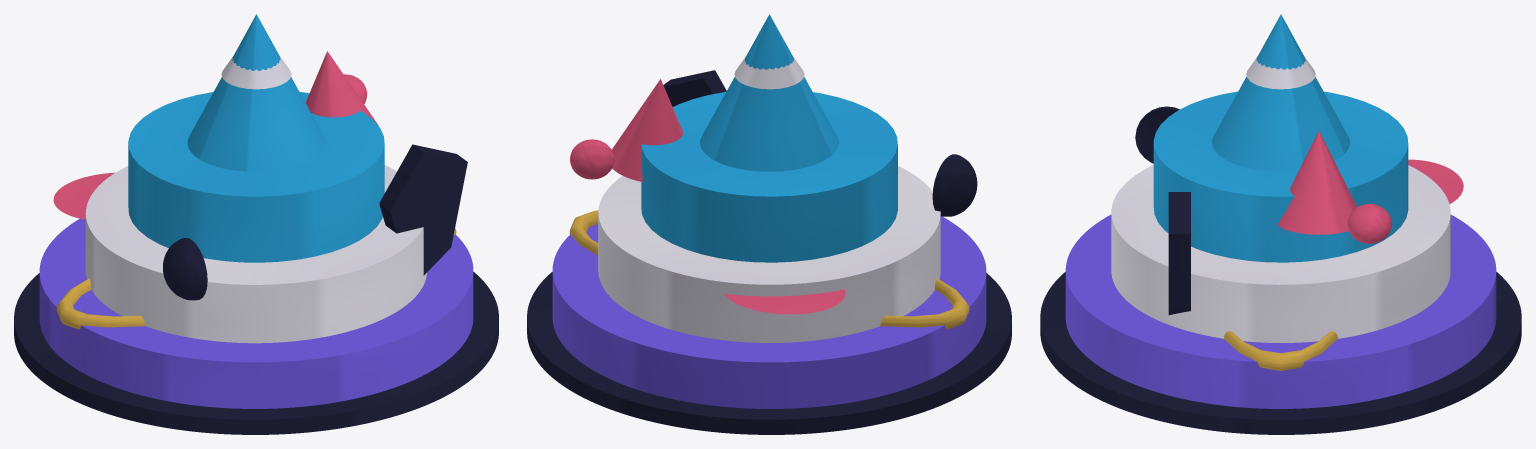
Rendered from 0812_中国建筑图鉴_冠云峰.glb.
3 renders of one model, left to right at view 1: azimuth 30°, elevation 25°; view 2: azimuth 150°, elevation 25°; view 3: azimuth 270°, elevation 25°, orthographic.
Parts seen in each view (by area): view 1: card_0812; view 2: card_0812; view 3: card_0812.
Boxes of the visible parts, left/top/right/bottom form: card_0812: left=14, top=14, right=498, bottom=434; card_0812: left=527, top=14, right=1011, bottom=434; card_0812: left=1040, top=14, right=1521, bottom=434.
Bounding box in the file's own units: 1.38 × 1 × 1.37.
